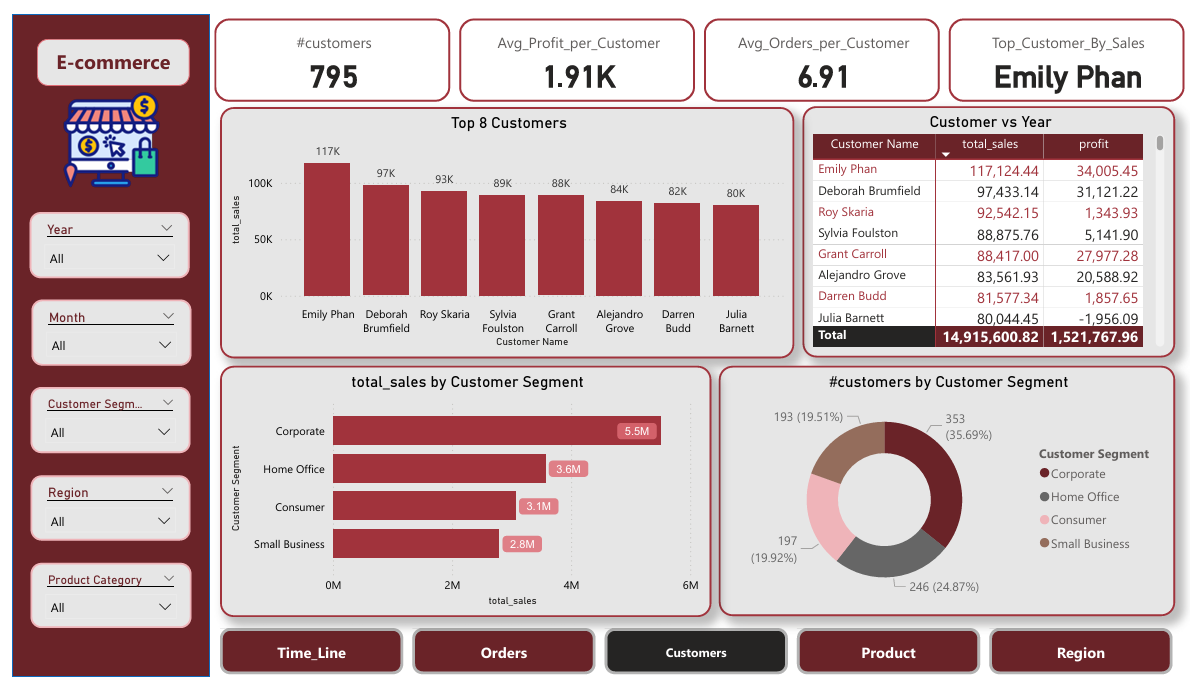

The dashboard page shown, as its layout file describes it:
{"tool":"powerbi","page":{"name":"Customers","canvas":[1280,720],"ordinal":2},"visuals":[{"type":"cardVisual","fields":{"Data":["Dax.#customers","Dax.Avg_Profit_per_Customer","Dax.Avg_Orders_per_Customer","Dax.Top_Customer_By_Sales"]},"box":[215.4,0,1064.8,100.2],"z":0},{"type":"shape","box":[0,0,215.4,720.4],"z":2000},{"type":"textbox","box":[27.4,27.4,166,50.8],"z":3000},{"type":"slicer","fields":{"Values":["New folder.Year"]},"box":[19.2,215.4,174.3,71.4],"z":4000},{"type":"slicer","fields":{"Values":["New folder.Order Date.Variation.Date Hierarchy.Month"]},"box":[20.6,310.5,174.3,71.4],"z":5000},{"type":"slicer","fields":{"Values":["New folder.Customer Segment"]},"box":[19.6,405.5,174.3,71.4],"z":6000},{"type":"slicer","fields":{"Values":["New folder.Region"]},"box":[19.9,500.5,174.3,71.4],"z":7000},{"type":"slicer","fields":{"Values":["New folder.Product Category"]},"box":[20.2,595.5,174.3,71.4],"z":8000},{"type":"image","box":[0,78.2,215.4,116.6],"z":9000},{"type":"pageNavigator","box":[225.8,667.5,1038,49.1],"z":10000},{"type":"pivotTable","title":"Customer vs Year","fields":{"Rows":["New folder.Customer Name"],"Values":["Dax.total_sales","Dax.profit"]},"box":[859.4,100.5,404.6,272.9],"z":11000},{"type":"columnChart","title":"Top 8 Customers","fields":{"Category":["New folder.Customer Name"],"Y":["Dax.total_sales"]},"box":[225.6,100.6,624,273.3],"z":12000},{"type":"donutChart","fields":{"Category":["New folder.Customer Segment"],"Y":["Dax.#customers"]},"box":[768.1,381.6,495.7,272.4],"z":13000},{"type":"barChart","fields":{"Category":["New folder.Customer Segment"],"Y":["Dax.total_sales"]},"box":[225.8,381.6,533.7,273.6],"z":15000}]}

Visuals, with their boxes in screenshot pixels (x1, y1, x2, y2), scaled from the page's 1280x720 canvas onto the 1191x682 screenshot:
cardVisual - Dax.#customers x Dax.Avg_Profit_per_Customer: box(200, 0, 1190, 95)
shape: box(0, 0, 200, 681)
textbox: box(25, 26, 180, 74)
slicer - New folder.Year: box(18, 204, 180, 272)
slicer - New folder.Order Date.Variation.Date Hierarchy.Month: box(19, 294, 181, 362)
slicer - New folder.Customer Segment: box(18, 384, 180, 452)
slicer - New folder.Region: box(19, 474, 181, 542)
slicer - New folder.Product Category: box(19, 564, 181, 632)
image: box(0, 74, 200, 185)
pageNavigator: box(210, 632, 1176, 679)
"Customer vs Year" pivotTable: box(800, 95, 1176, 354)
"Top 8 Customers" columnChart: box(210, 95, 791, 354)
donutChart - New folder.Customer Segment x Dax.#customers: box(715, 361, 1176, 619)
barChart - New folder.Customer Segment x Dax.total_sales: box(210, 361, 707, 621)
